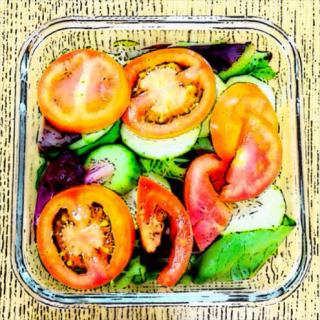tomato: (33, 184, 136, 290), (35, 46, 131, 136), (121, 48, 217, 137), (136, 175, 194, 287), (207, 80, 281, 164), (216, 111, 282, 205), (182, 151, 234, 254)
